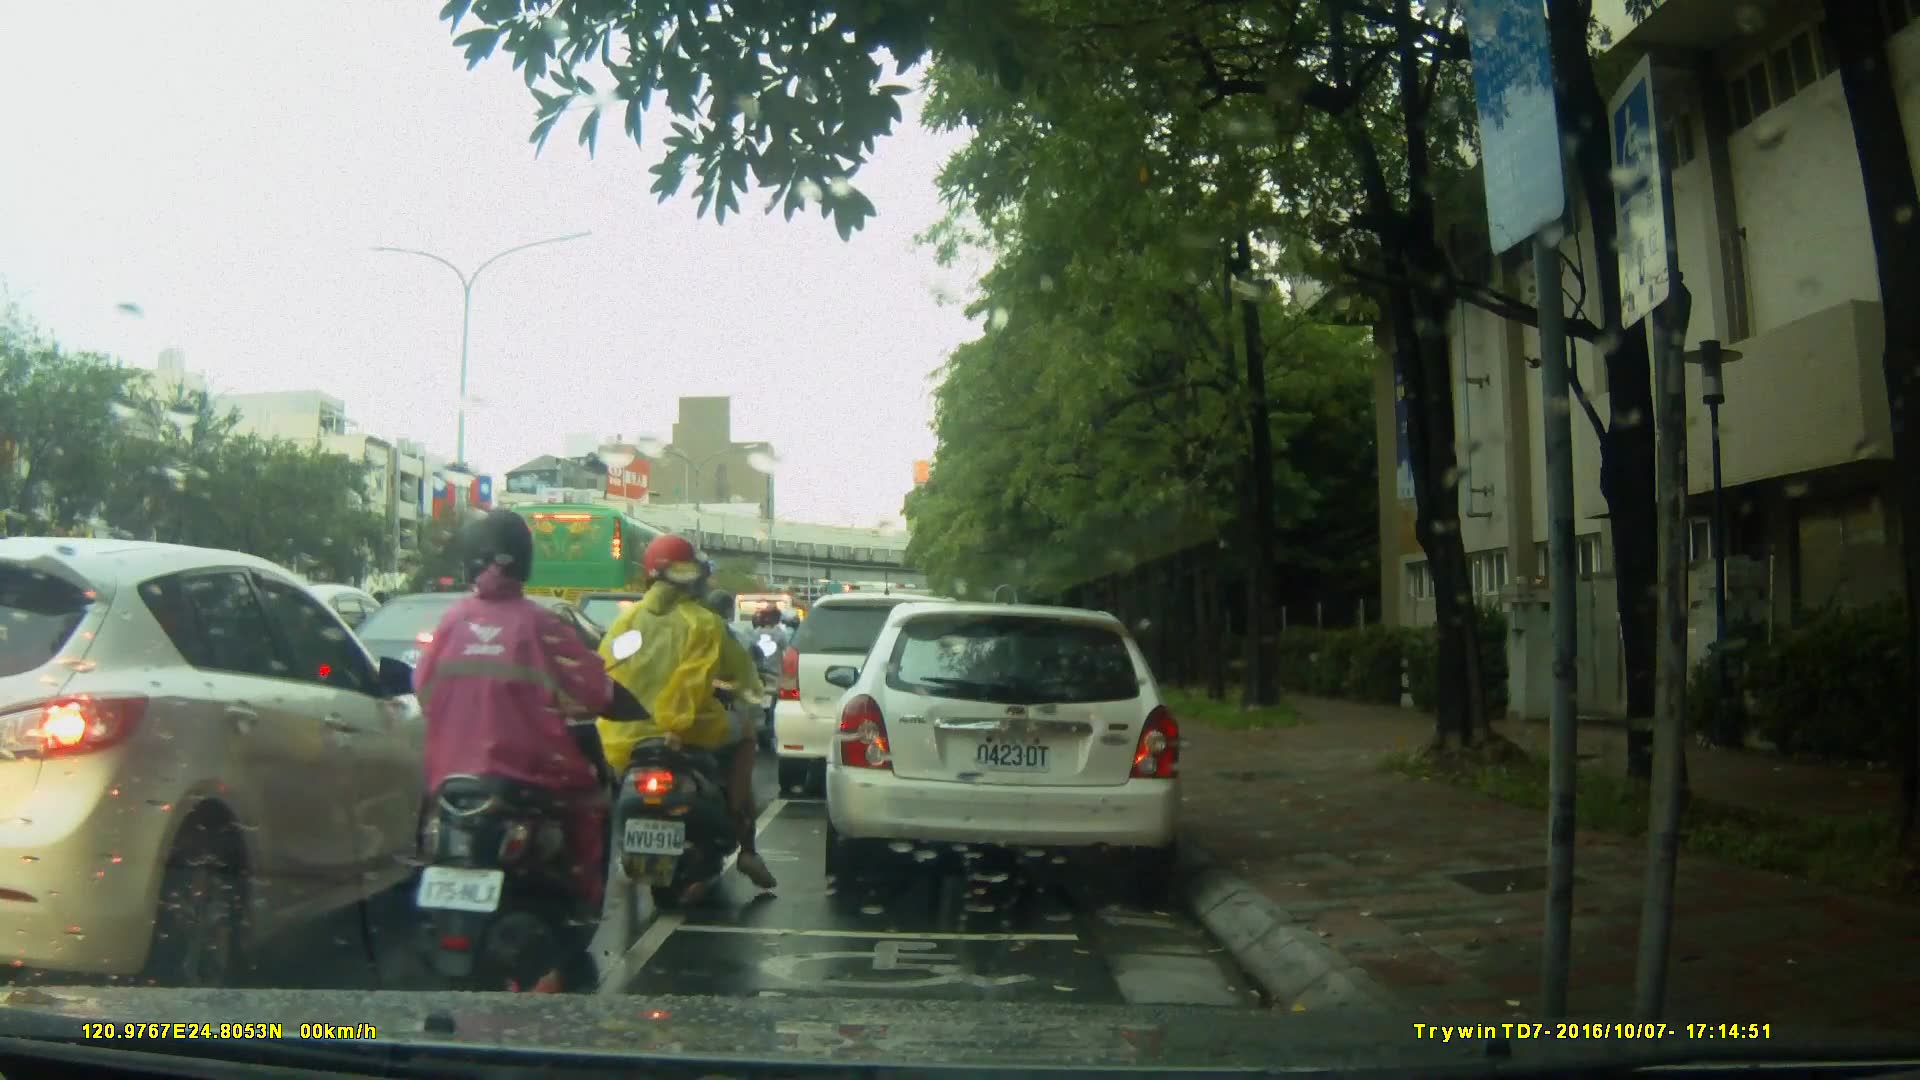rider: (395, 508, 610, 1010), (592, 534, 779, 903), (693, 589, 775, 777), (742, 602, 804, 737)
vehicle: (4, 536, 466, 988), (831, 592, 1196, 897), (318, 589, 629, 776), (770, 590, 999, 804), (495, 499, 710, 636)
